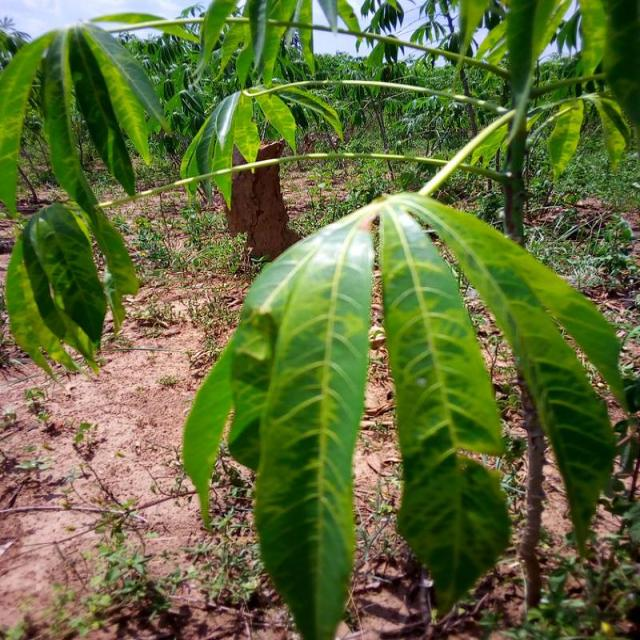Mosaico: (241, 195, 619, 546), (5, 183, 171, 328), (184, 90, 349, 192), (502, 80, 640, 181)
